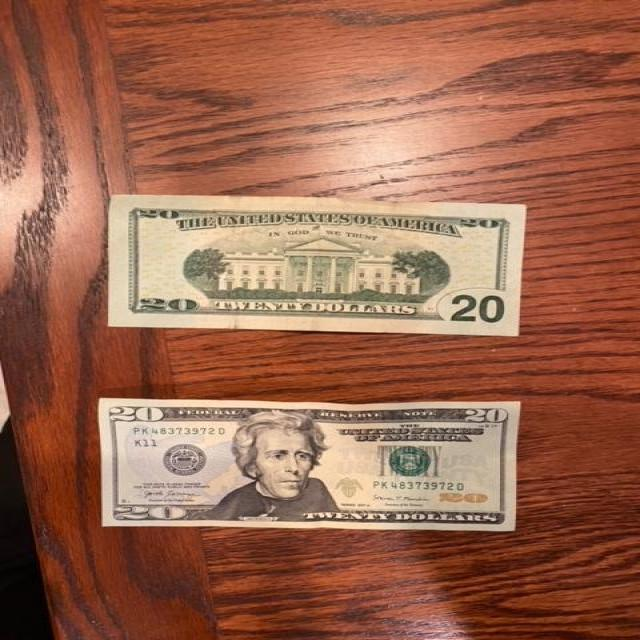20-Back: (110, 193, 522, 337)
20-Front: (97, 396, 523, 532)
